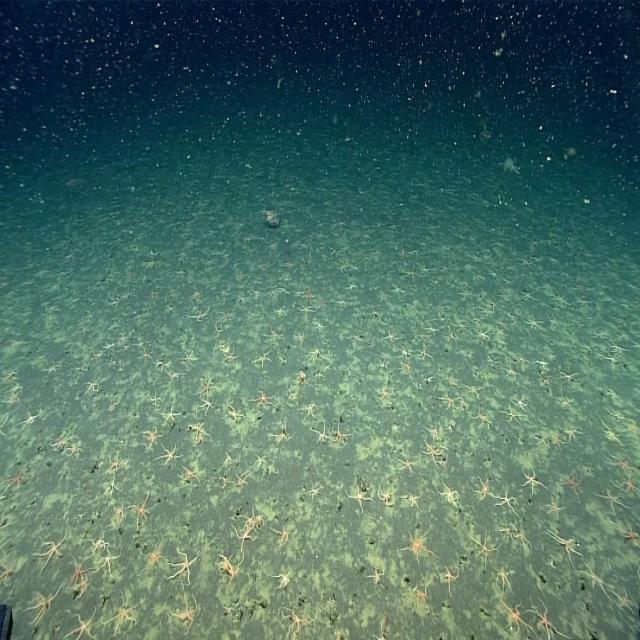brittle-stars: (105, 588, 140, 632), (169, 585, 198, 633), (34, 529, 68, 569), (582, 559, 613, 602), (282, 599, 314, 640), (547, 526, 577, 568), (500, 595, 529, 638), (466, 522, 493, 568), (168, 545, 197, 586), (402, 525, 432, 564), (26, 586, 58, 622), (532, 596, 558, 640), (65, 605, 97, 640), (611, 514, 640, 550), (407, 578, 433, 618), (345, 475, 371, 515), (595, 486, 626, 516), (555, 467, 585, 498), (138, 536, 165, 570), (492, 486, 522, 516), (473, 474, 498, 507), (607, 447, 634, 476), (518, 464, 544, 494), (269, 418, 294, 448), (176, 460, 203, 487), (130, 495, 152, 528), (436, 477, 461, 506), (231, 522, 256, 550), (500, 399, 524, 428), (513, 523, 534, 556), (414, 337, 436, 368), (440, 562, 460, 596), (99, 544, 119, 578), (156, 443, 183, 468), (4, 461, 23, 496), (500, 356, 522, 386), (271, 519, 294, 547), (272, 566, 294, 595), (366, 562, 387, 592), (106, 446, 127, 476), (250, 386, 274, 412), (600, 344, 620, 374), (187, 418, 210, 444), (400, 489, 424, 513), (424, 436, 442, 468), (619, 472, 640, 499), (397, 451, 418, 478), (493, 564, 513, 592), (376, 482, 396, 510), (523, 311, 545, 336), (328, 420, 348, 447), (249, 347, 273, 369), (546, 494, 566, 520), (142, 424, 162, 450), (196, 375, 216, 401), (19, 405, 39, 431), (304, 478, 324, 504), (310, 418, 329, 445), (438, 388, 460, 411), (225, 400, 243, 428), (265, 322, 287, 344), (188, 305, 210, 327), (42, 355, 62, 379), (402, 260, 420, 286), (0, 560, 16, 589), (87, 531, 108, 553), (374, 381, 393, 405), (71, 556, 85, 588), (84, 369, 100, 397), (162, 404, 179, 429), (284, 382, 303, 404), (110, 502, 128, 525), (297, 300, 320, 318), (549, 428, 566, 452), (146, 386, 162, 411), (51, 431, 69, 453), (180, 346, 197, 369), (234, 467, 250, 491), (476, 319, 491, 344), (389, 278, 406, 300), (425, 421, 443, 441), (400, 357, 415, 381), (384, 322, 398, 347), (313, 316, 328, 339), (215, 308, 238, 323), (222, 348, 240, 367), (500, 520, 515, 542), (304, 398, 317, 421), (424, 318, 438, 339), (78, 574, 90, 598), (251, 452, 269, 468)
